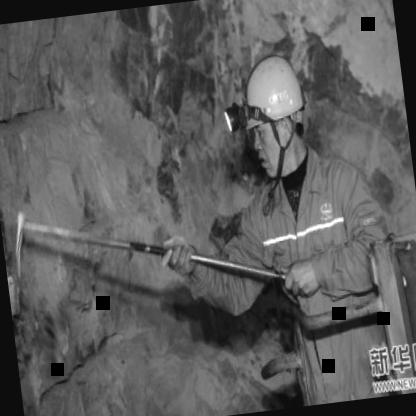helmet: (234, 44, 318, 174)
